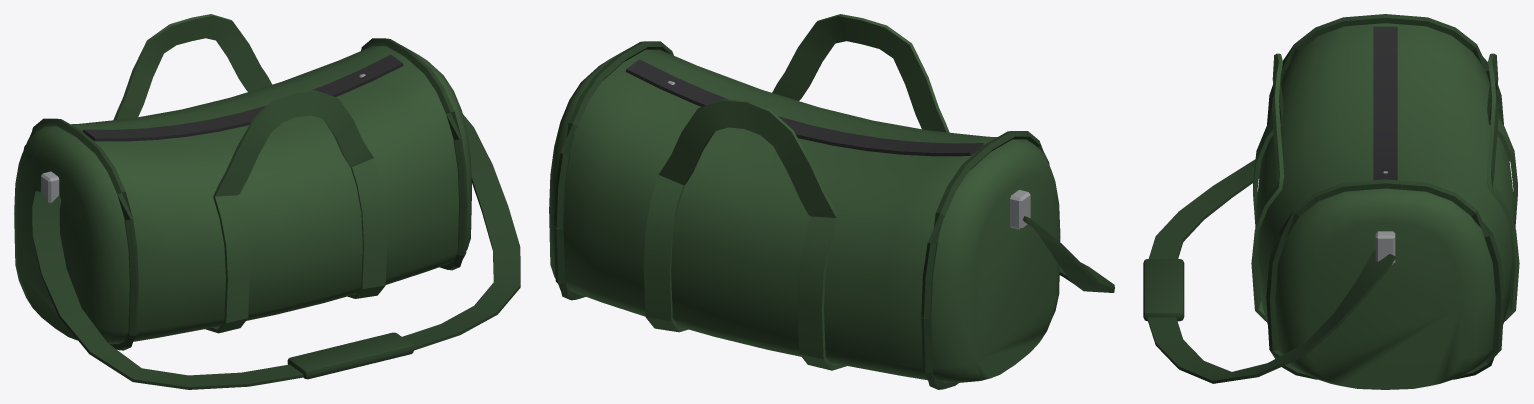
File: DuffelBag.fbx
The picture shows the model from 3 angles, left to right: view 1: azimuth 30°, elevation 25°; view 2: azimuth 150°, elevation 25°; view 3: azimuth 270°, elevation 25°; orthographic projection. The views are drawn at different scales.
Visible parts, largest first — view 1: DuffelBag_Mesh; view 2: DuffelBag_Mesh; view 3: DuffelBag_Mesh.
Boxes of the visible parts, <box> form: DuffelBag_Mesh: <box>14,14,520,389</box>; DuffelBag_Mesh: <box>549,14,1114,389</box>; DuffelBag_Mesh: <box>1143,14,1519,389</box>.
Size of the model in its own units: 0.6579 by 0.3179 by 0.4615.
